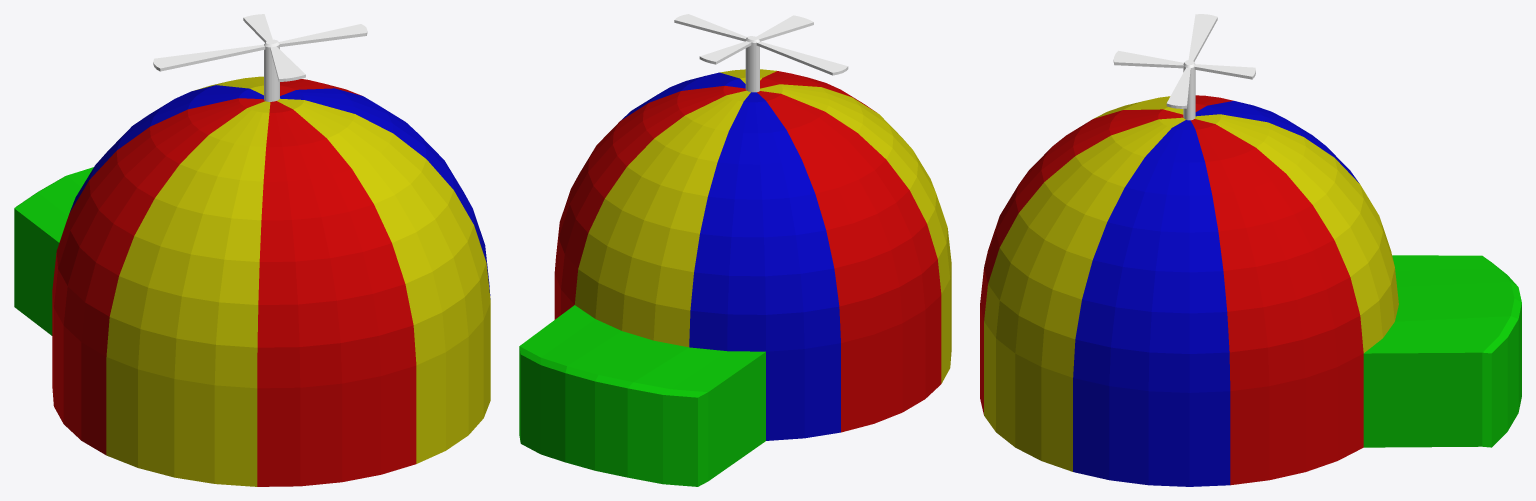
The model's file is SpinningHat_Sphere.FBX.
3 renders of one model, left to right at view 1: azimuth 30°, elevation 25°; view 2: azimuth 150°, elevation 25°; view 3: azimuth 270°, elevation 25°, orthographic. The views are drawn at different scales.
Visible parts, largest first — view 1: SpinningHat_Sphere; view 2: SpinningHat_Sphere; view 3: SpinningHat_Sphere.
Part boxes in pixels (x1,y1,x2,y2): SpinningHat_Sphere: (14,14,490,486); SpinningHat_Sphere: (519,14,951,486); SpinningHat_Sphere: (980,14,1521,486).
Size of what is drawn, in the model's own units: 200 by 259 by 179.
